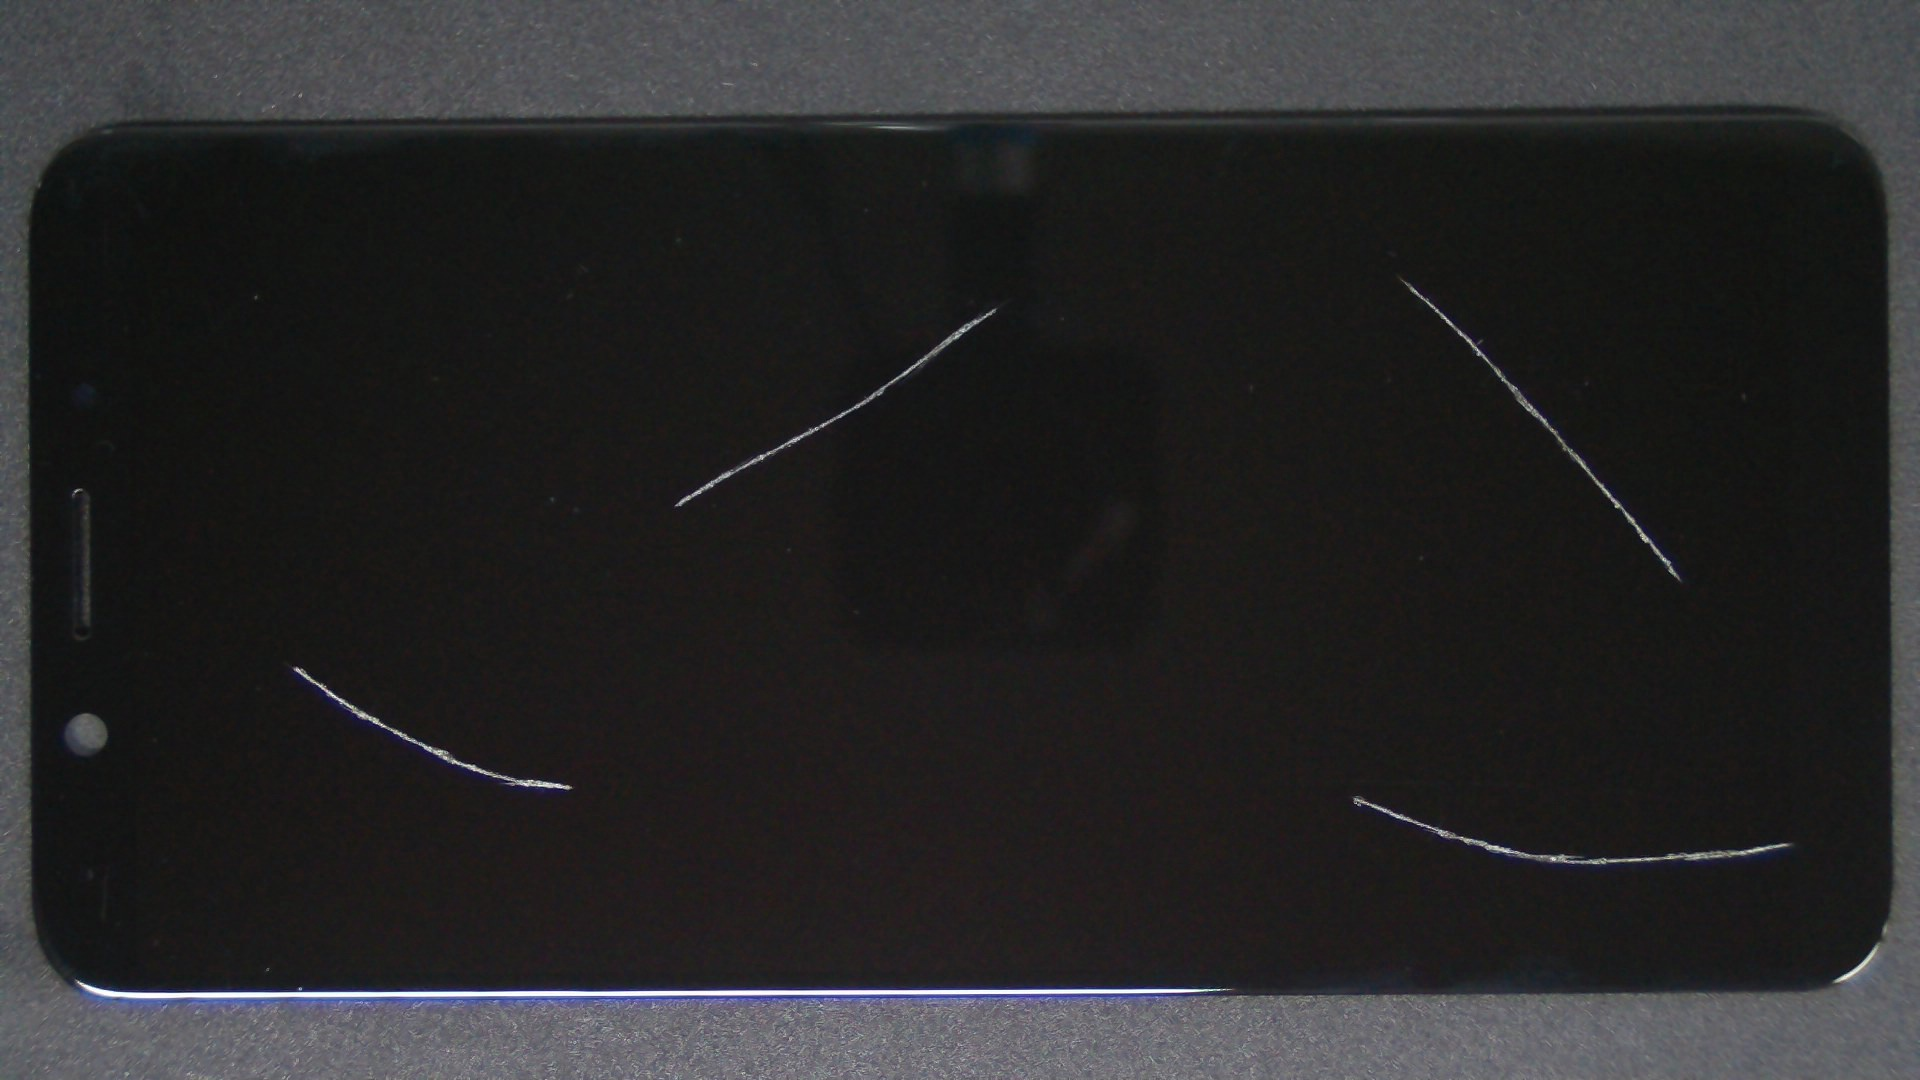oil: (678, 397, 1920, 1080), (699, 137, 1920, 417), (497, 153, 1490, 462), (148, 332, 442, 998)
